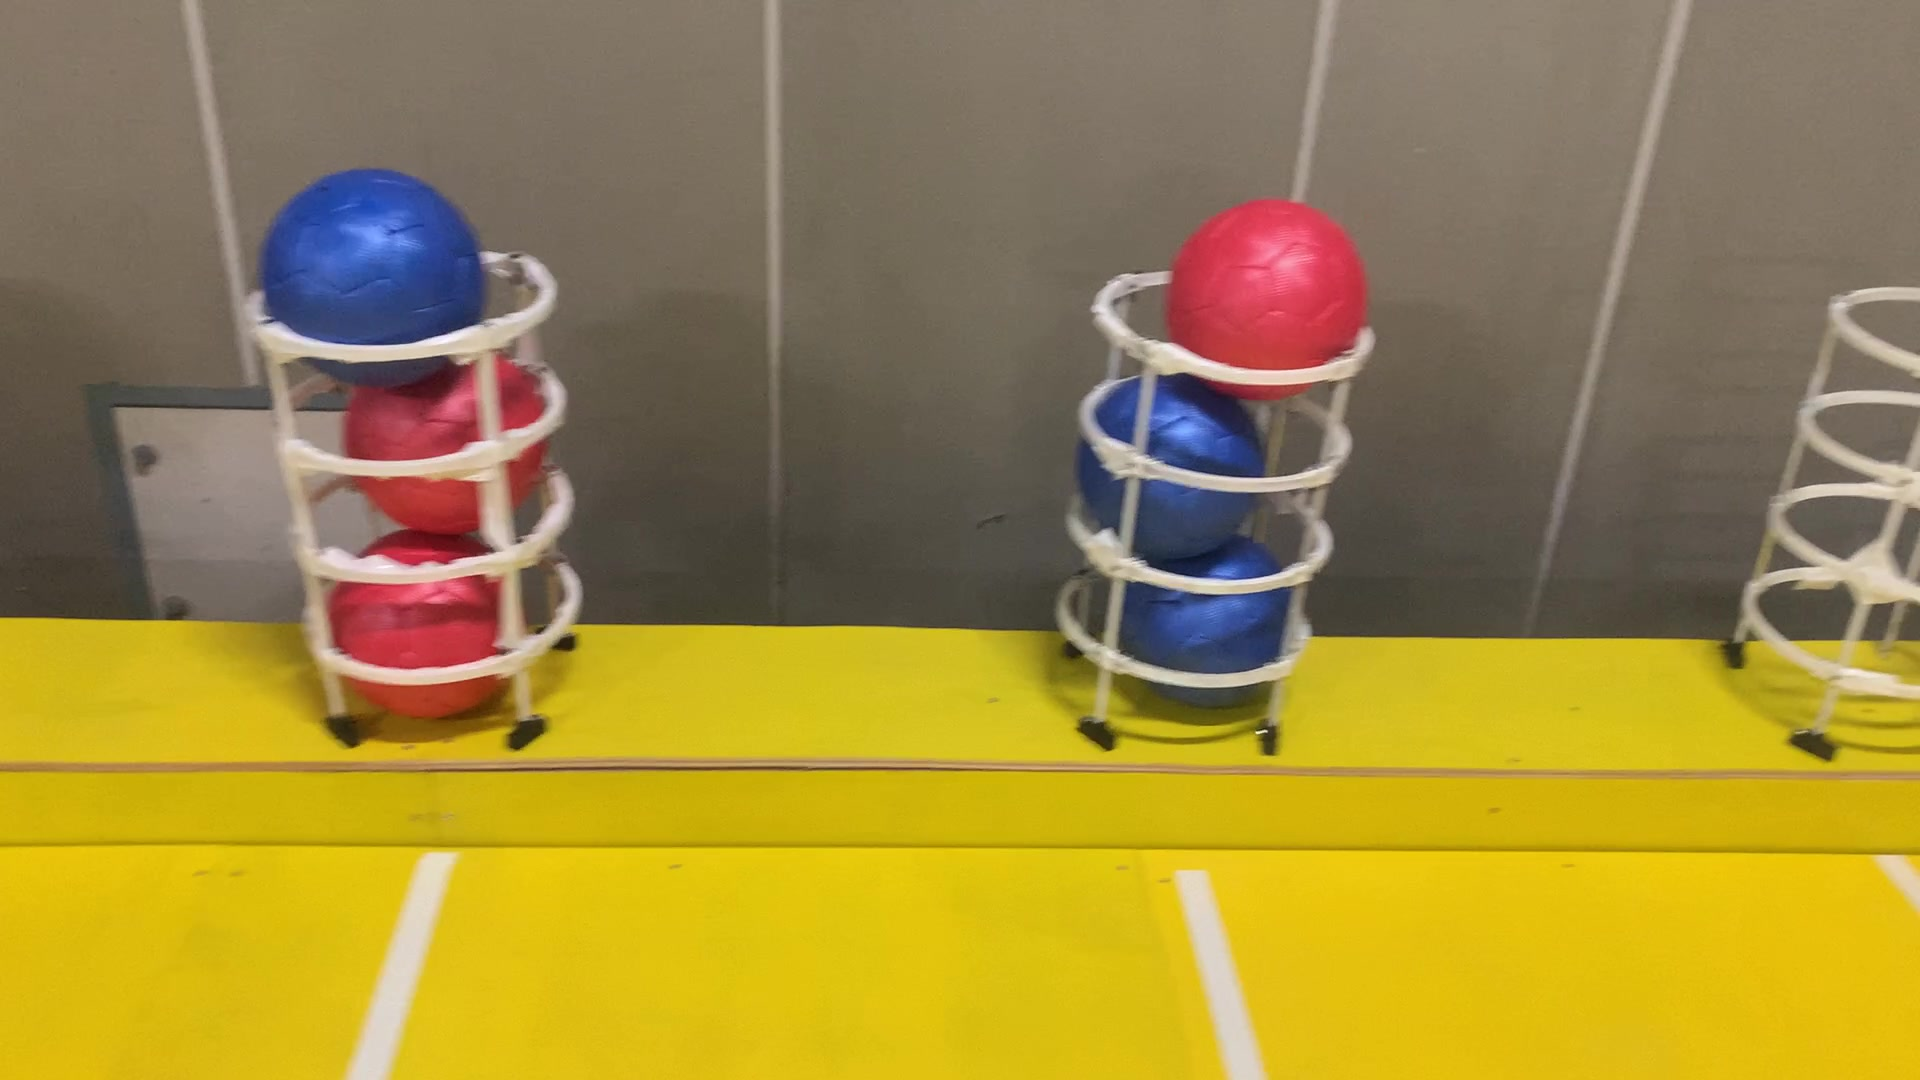blue: (257, 153, 483, 389), (1072, 368, 1270, 562), (1120, 527, 1305, 709)
red: (319, 509, 543, 728), (339, 335, 559, 530), (1171, 198, 1365, 398)
